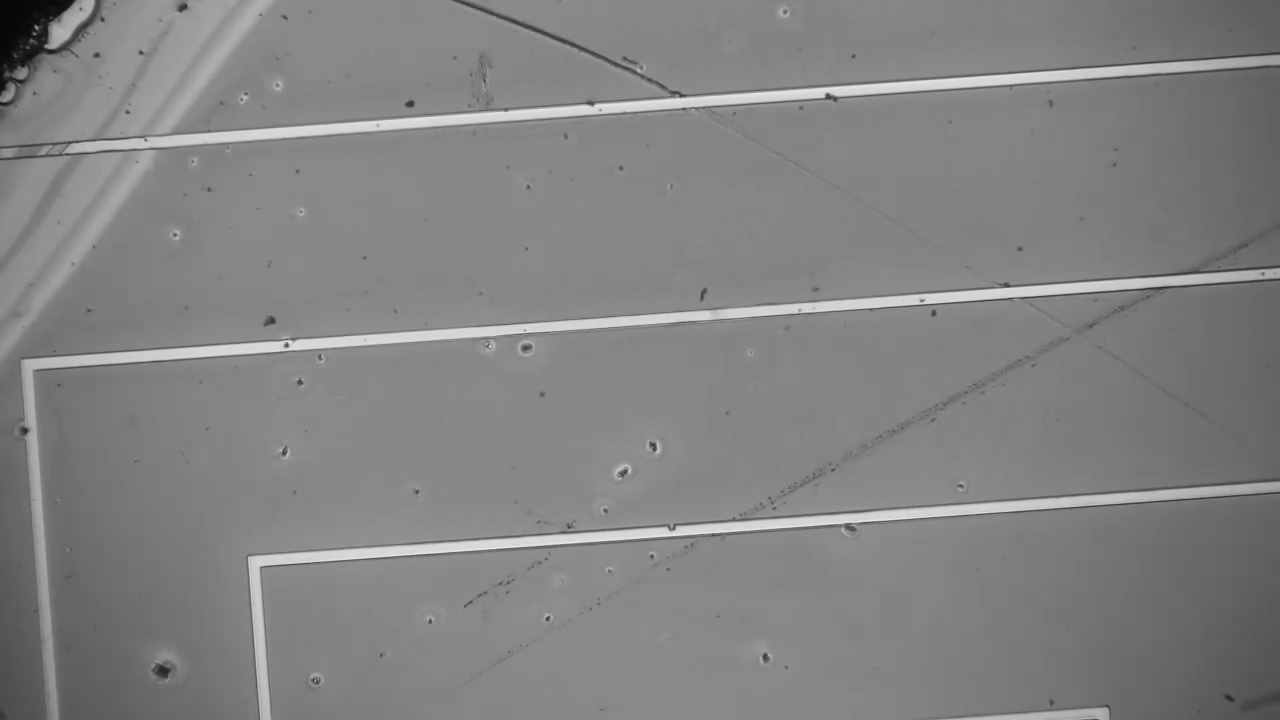edge_bite: (664, 520, 683, 544)
gray_line: (0, 127, 85, 173)
scratch: (467, 242, 1260, 686), (693, 111, 1201, 409), (448, 0, 682, 96)
stains_enbedded: (814, 79, 848, 110), (11, 416, 41, 442)
